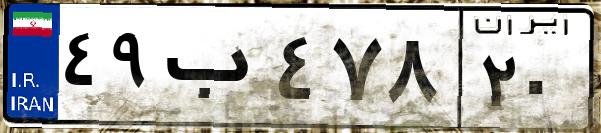0: (525, 38, 570, 115)
2: (475, 38, 525, 113)
4: (270, 28, 330, 110), (57, 26, 110, 100)
7: (330, 28, 385, 110)
8: (385, 28, 445, 110)
9: (110, 28, 158, 98)
ب: (158, 20, 270, 120)
